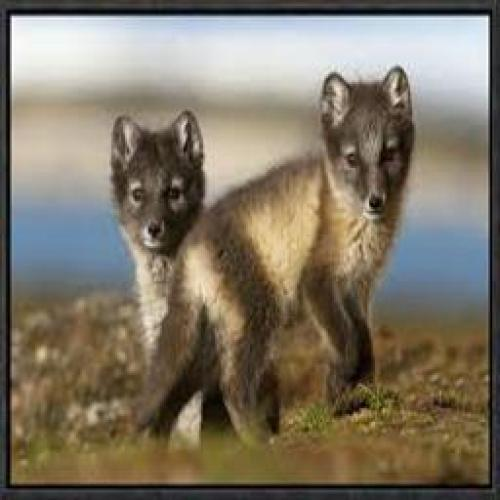arctic_fox-endangered: (138, 69, 418, 452), (109, 111, 206, 444)
